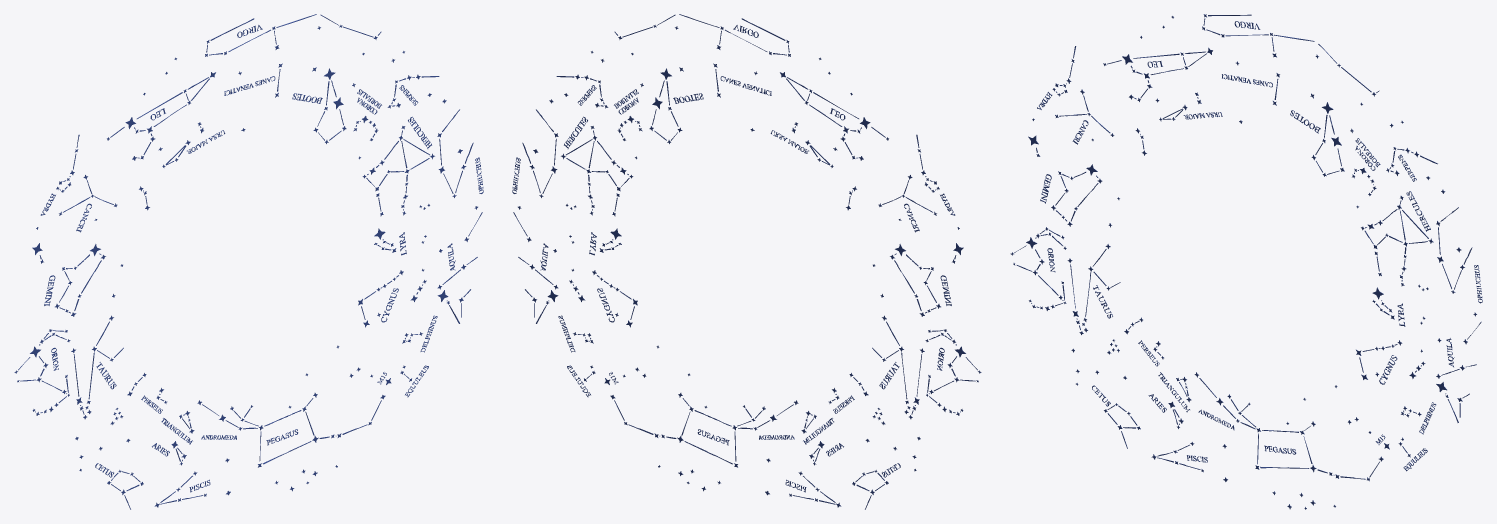
File: dial.glb
3 renders of one model, left to right at view 1: azimuth 30°, elevation 25°; view 2: azimuth 150°, elevation 25°; view 3: azimuth 330°, elevation 25°, orthographic.
Parts seen in each view (by area): view 1: dial_celestial; view 2: dial_celestial; view 3: dial_celestial.
Part boxes in pixels (x1=…): dial_celestial: x1=14, y1=14, x2=483, y2=509; dial_celestial: x1=512, y1=14, x2=981, y2=509; dial_celestial: x1=1010, y1=14, x2=1482, y2=509.
Size of the model in its own units: 0.0389 by 0.0382 by 4.56e-05.
